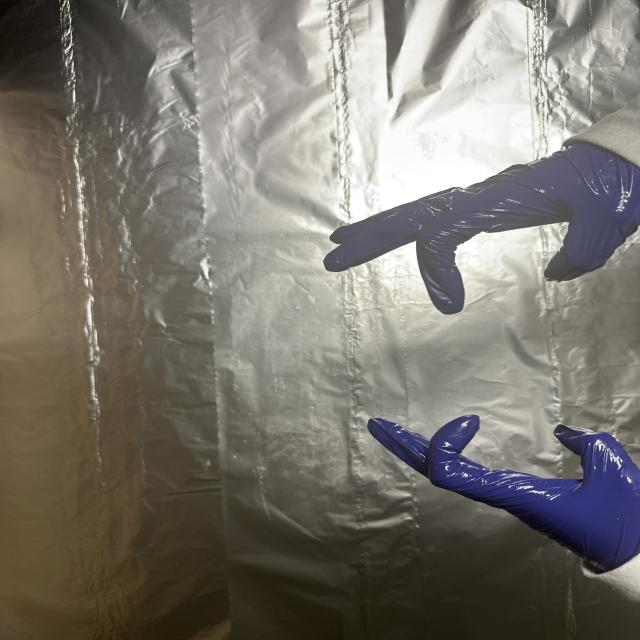gloves_contaminated: (324, 143, 640, 314), (368, 416, 640, 572)
